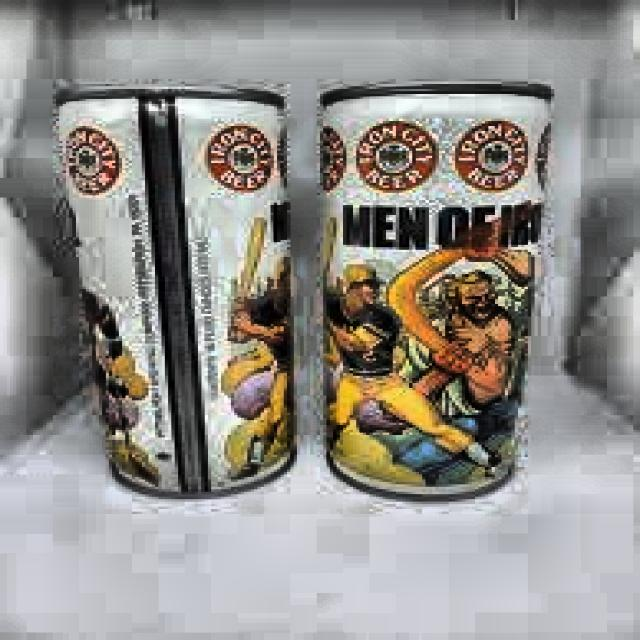can: (50, 81, 304, 502), (312, 70, 556, 506)
